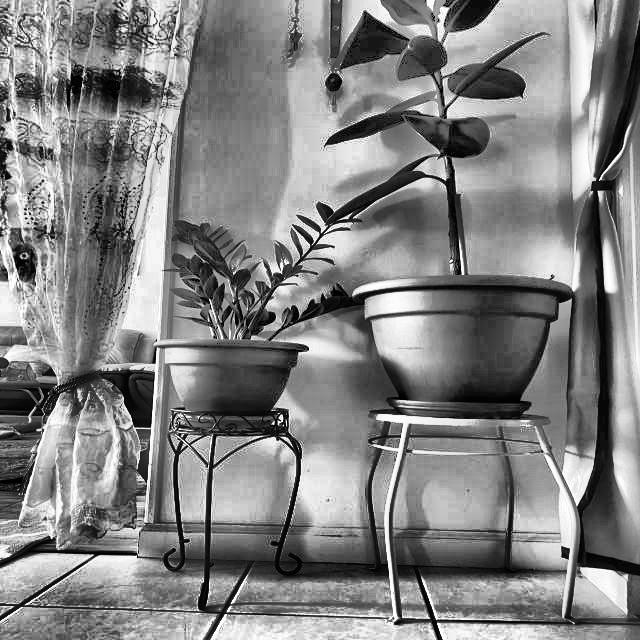plants: (336, 17, 602, 414), (150, 229, 338, 434)
